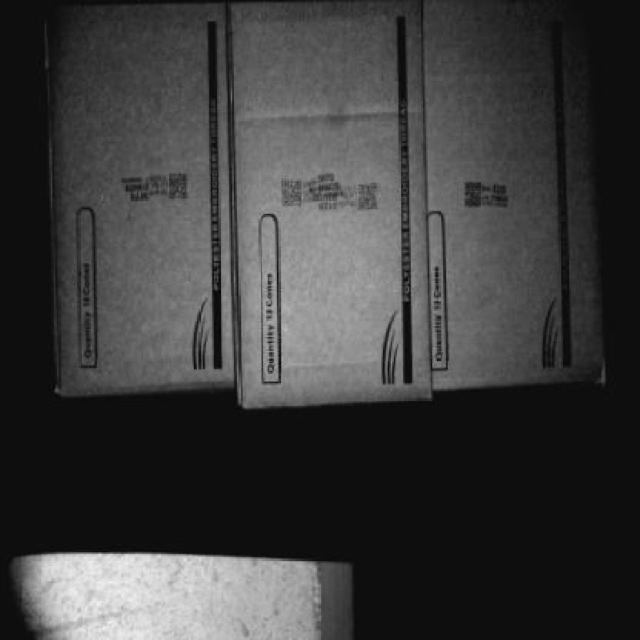cardboxes: (231, 4, 432, 404), (49, 3, 233, 391), (431, 0, 597, 385)
